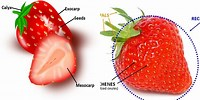Fresa: (112, 15, 193, 95), (14, 1, 75, 58), (28, 33, 79, 86)
